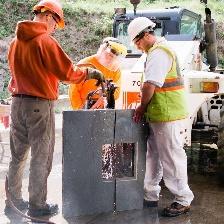helmet: (30, 2, 70, 28), (126, 17, 158, 46)
no-vest: (7, 24, 65, 107)
person: (9, 2, 78, 224), (126, 17, 192, 212)
vest: (137, 45, 191, 127)
